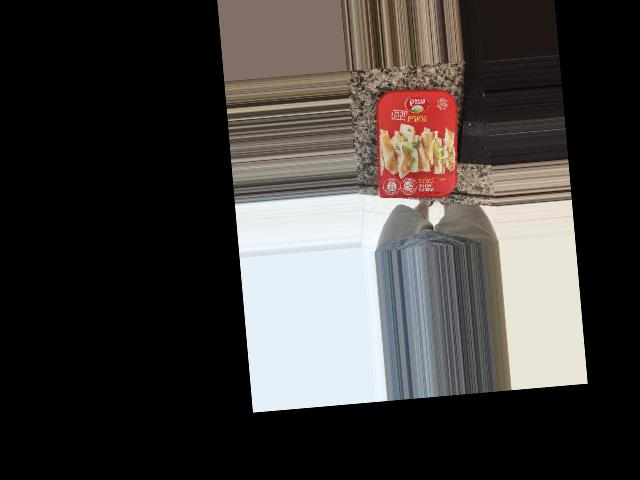cheese: (382, 106, 478, 223)
